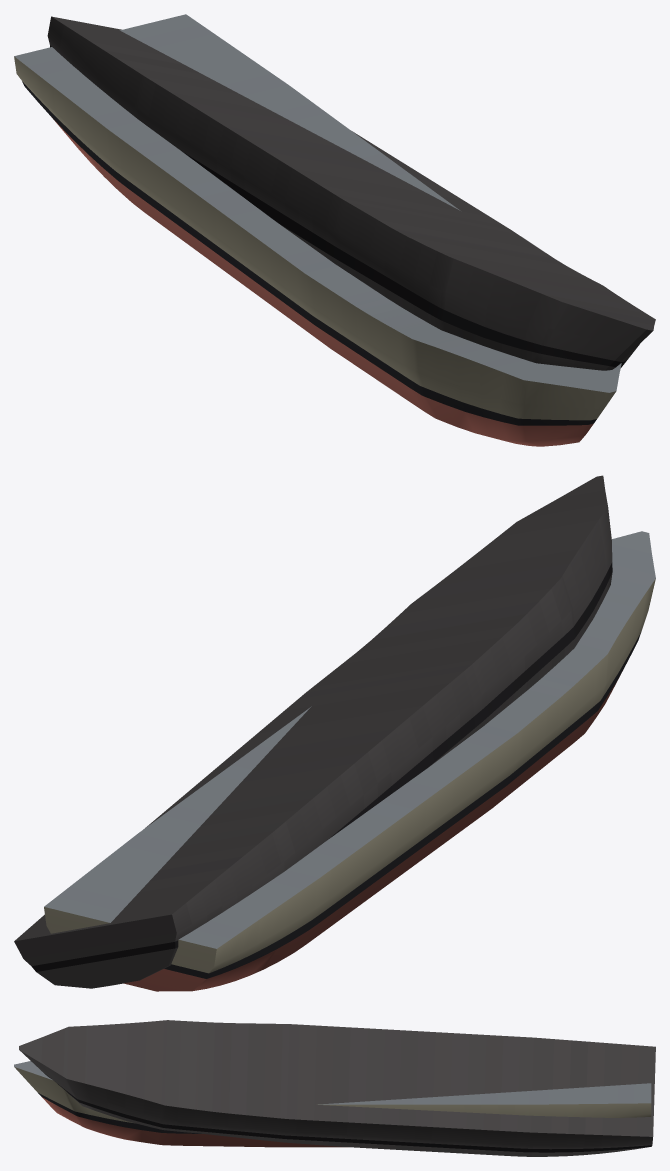
Rendered from gunboat__frisc.glb.
The picture shows the model from 3 angles, top to bottom: view 1: azimuth 30°, elevation 25°; view 2: azimuth 150°, elevation 25°; view 3: azimuth 270°, elevation 25°; orthographic projection. The views are drawn at different scales.
Visible parts, largest first — view 1: Wreck, Hull_Mesh; view 2: Wreck, Hull_Mesh; view 3: Wreck, Hull_Mesh.
Boxes of the visible parts, left/top/right/bottom form: Wreck: left=47, top=16, right=655, bottom=370; Hull_Mesh: left=14, top=14, right=621, bottom=446; Wreck: left=14, top=475, right=612, bottom=988; Hull_Mesh: left=44, top=531, right=655, bottom=991; Wreck: left=19, top=1020, right=655, bottom=1156; Hull_Mesh: left=14, top=1061, right=651, bottom=1147.
Size of what is drawn, in the model's own units: 2.94 by 2.35 by 12.59.
